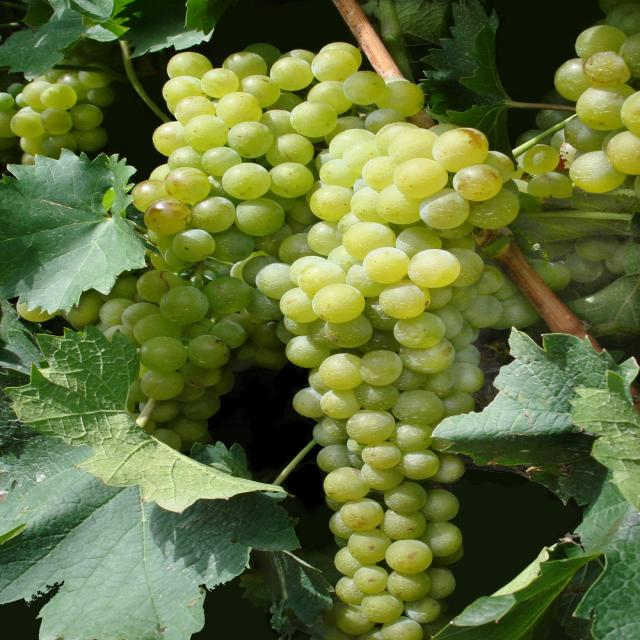grape: (73, 45, 528, 639), (133, 68, 285, 286), (0, 70, 113, 157)
